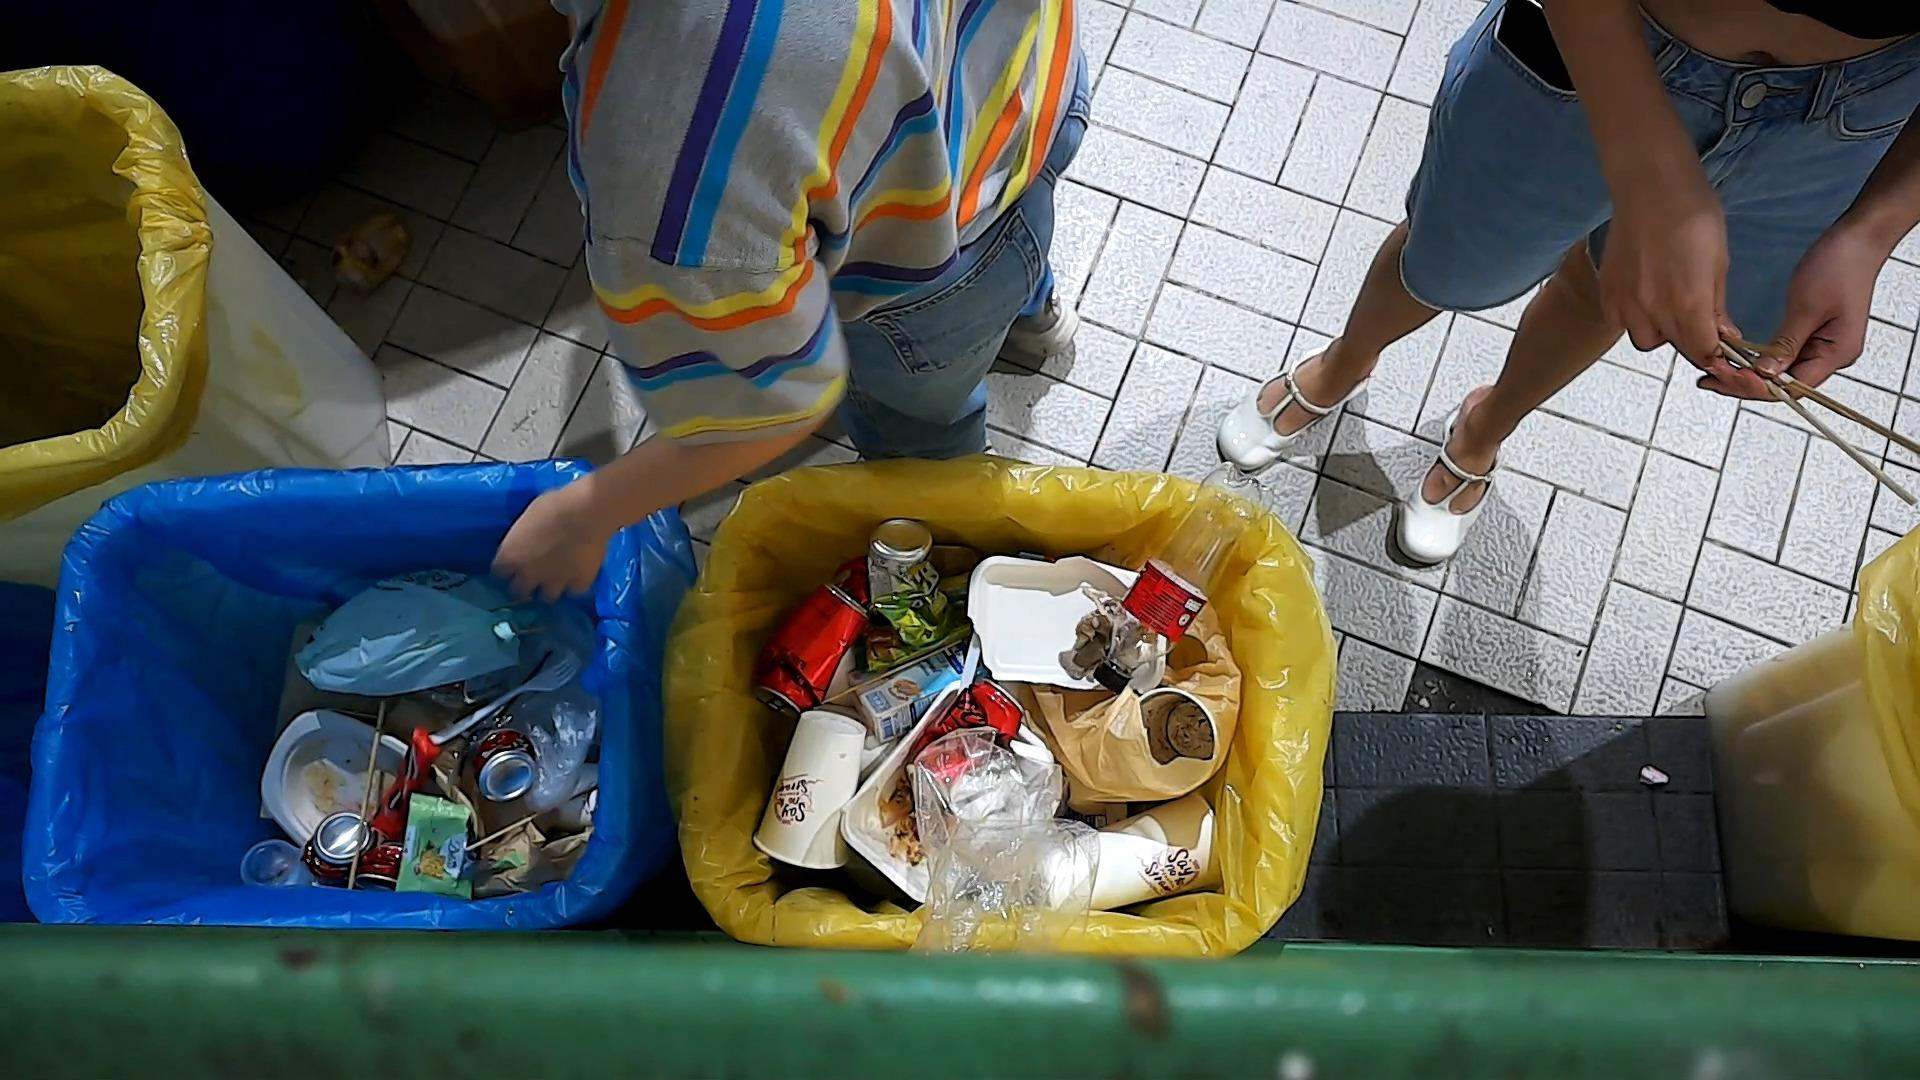can: (749, 575, 874, 721), (899, 675, 1026, 795), (864, 514, 957, 655), (301, 806, 378, 884), (469, 728, 539, 807)
dirty food container: (965, 549, 1174, 695)
filled plastic bag: (1033, 595, 1250, 812), (285, 562, 545, 702)
food container: (258, 704, 436, 852), (235, 831, 307, 890)
milk carton: (841, 632, 994, 745)
paper bag: (479, 803, 595, 902)
plastic bag: (903, 721, 1108, 959), (472, 576, 601, 820)
plastic bottle: (1085, 455, 1278, 700)
plastic cutlery: (426, 646, 588, 748), (452, 641, 560, 782)
snack packaging: (392, 791, 525, 903), (364, 723, 444, 848)
sticks: (1717, 342, 1920, 512), (1724, 334, 1920, 458), (811, 632, 972, 712), (463, 778, 601, 856), (343, 695, 389, 891)
zero waste cup: (1034, 787, 1224, 913), (749, 708, 868, 873)
